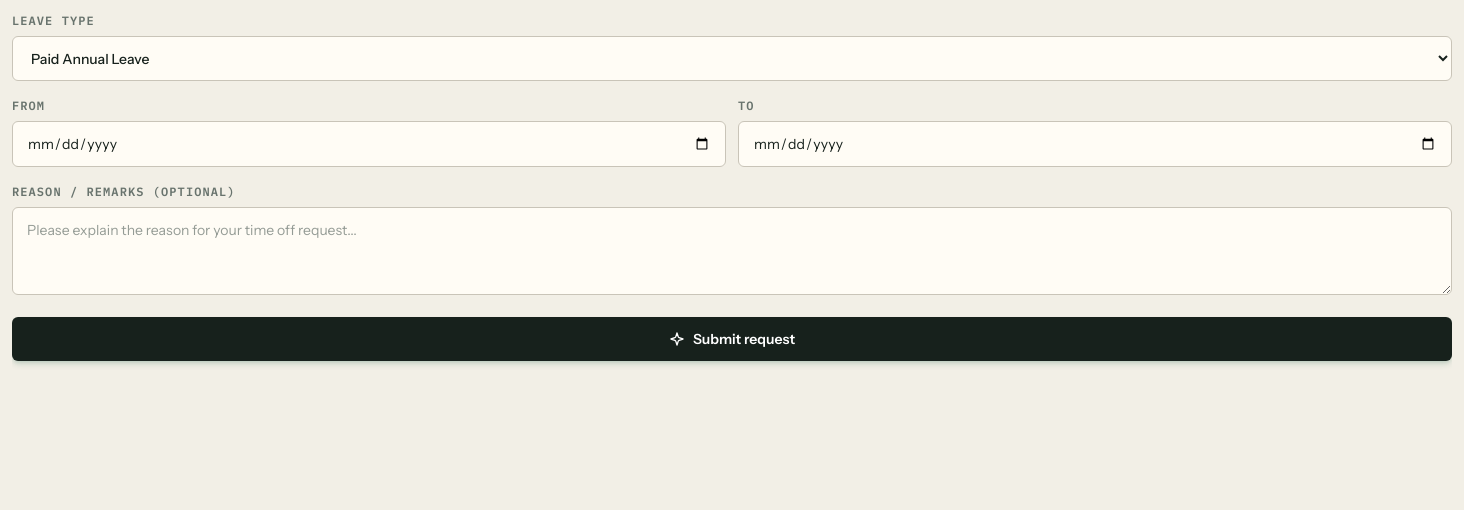
Scenario: LeaveForm › passes the employee's choices through to the action
Select "Unpaid Leave of Absence" in the dropdown labelled "Leave type" at [732, 58], box [12,36,1452,81]
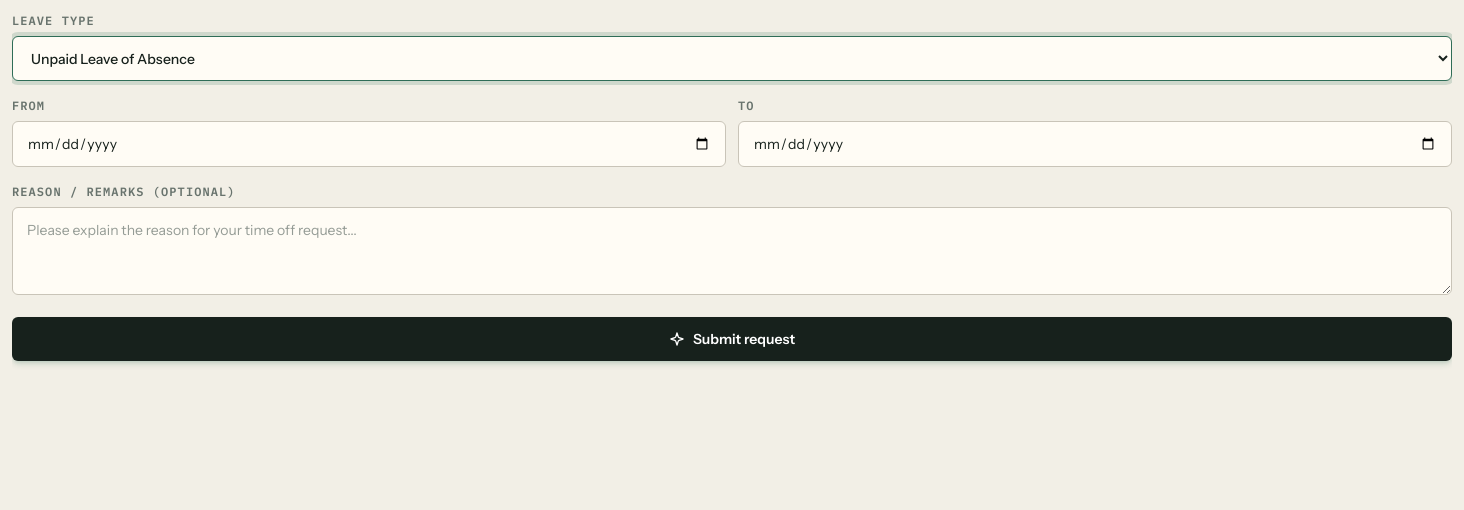
Type "2026-09-07" into the date field labelled "From" at [369, 144], box [12,121,726,167]
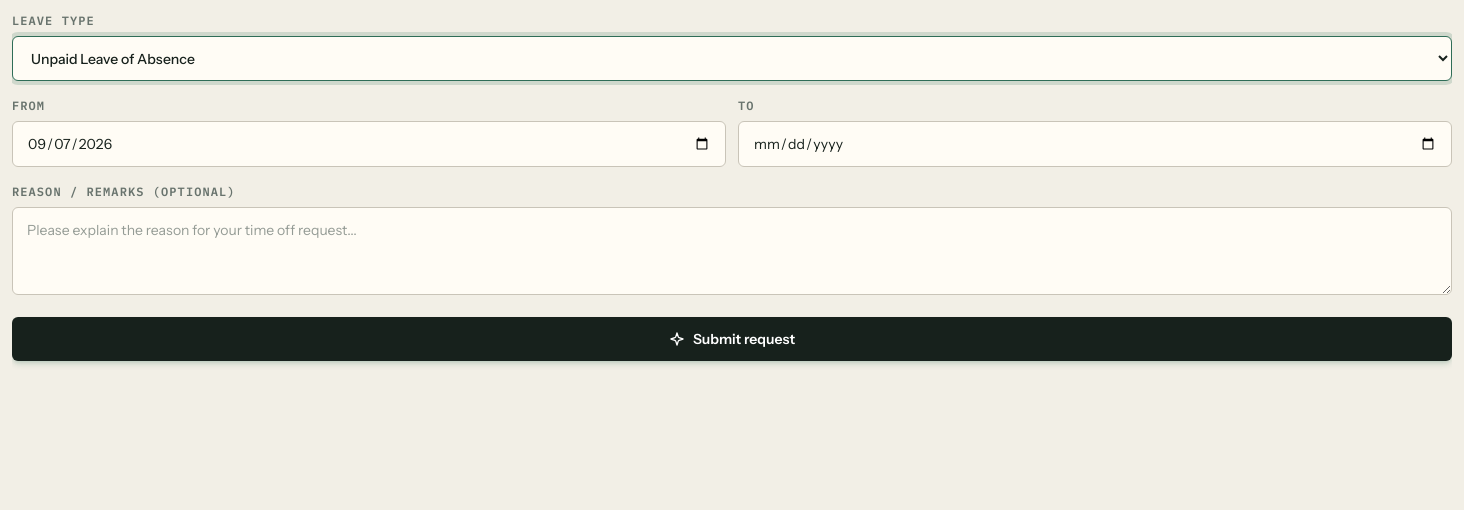
Type "2026-09-09" into the date field labelled "To" at [1095, 144], box [738,121,1452,167]
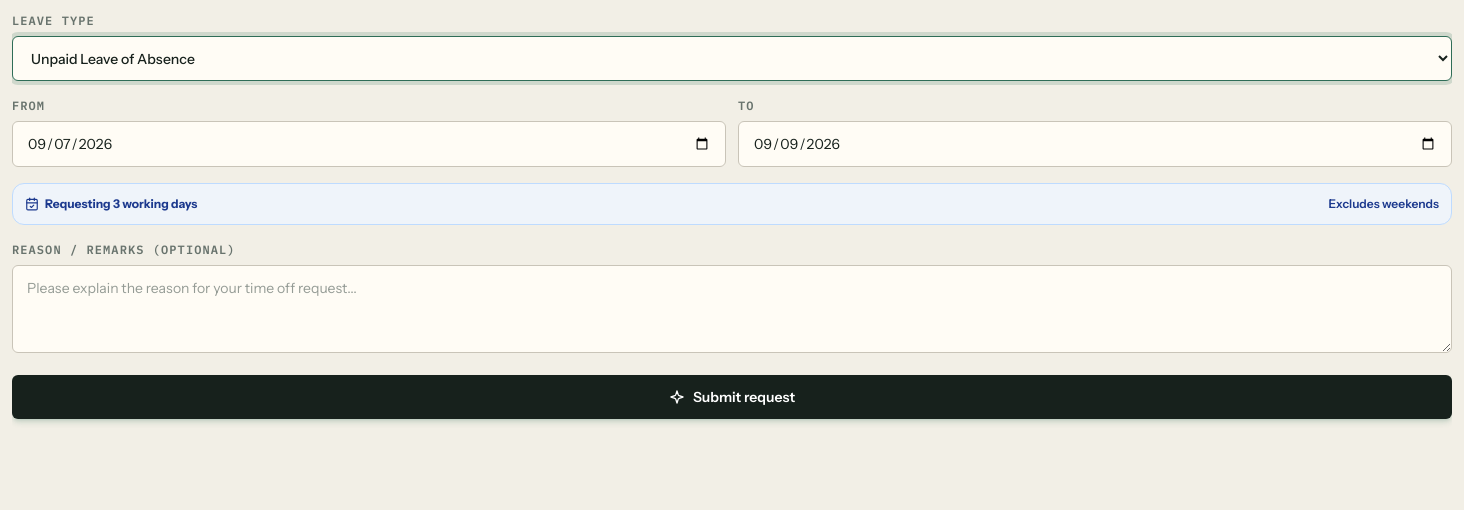
Click the button "Submit request" at [732, 397], box [12,375,1452,419]
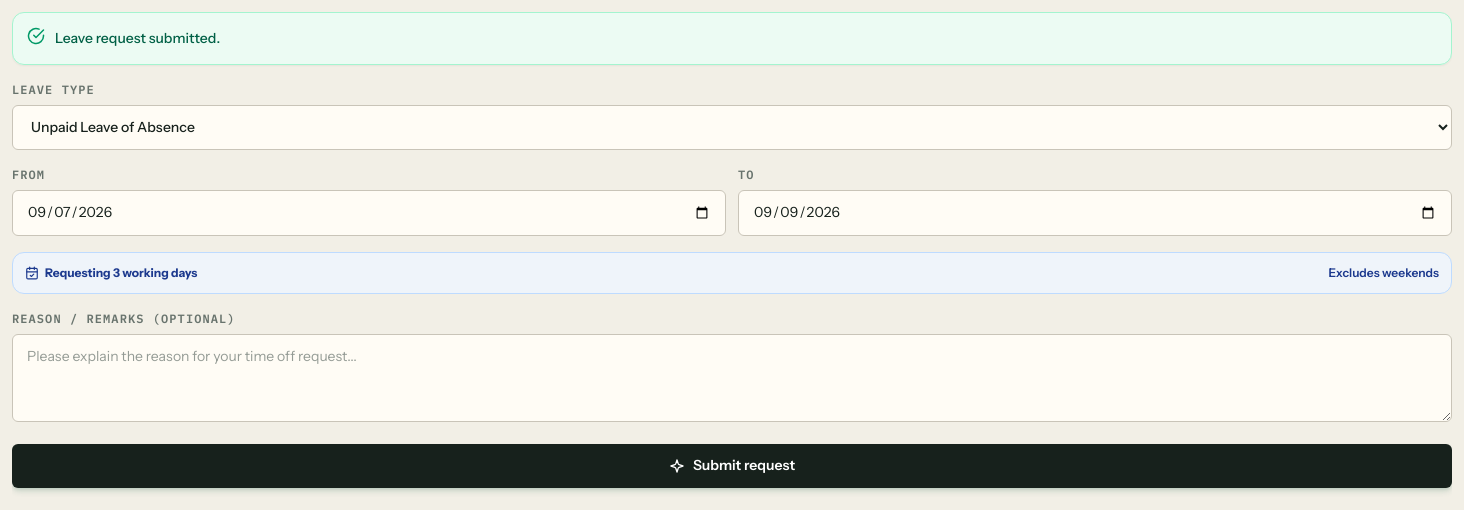
Result: the text "Leave request submitted." is shown at [55,29,220,47]
